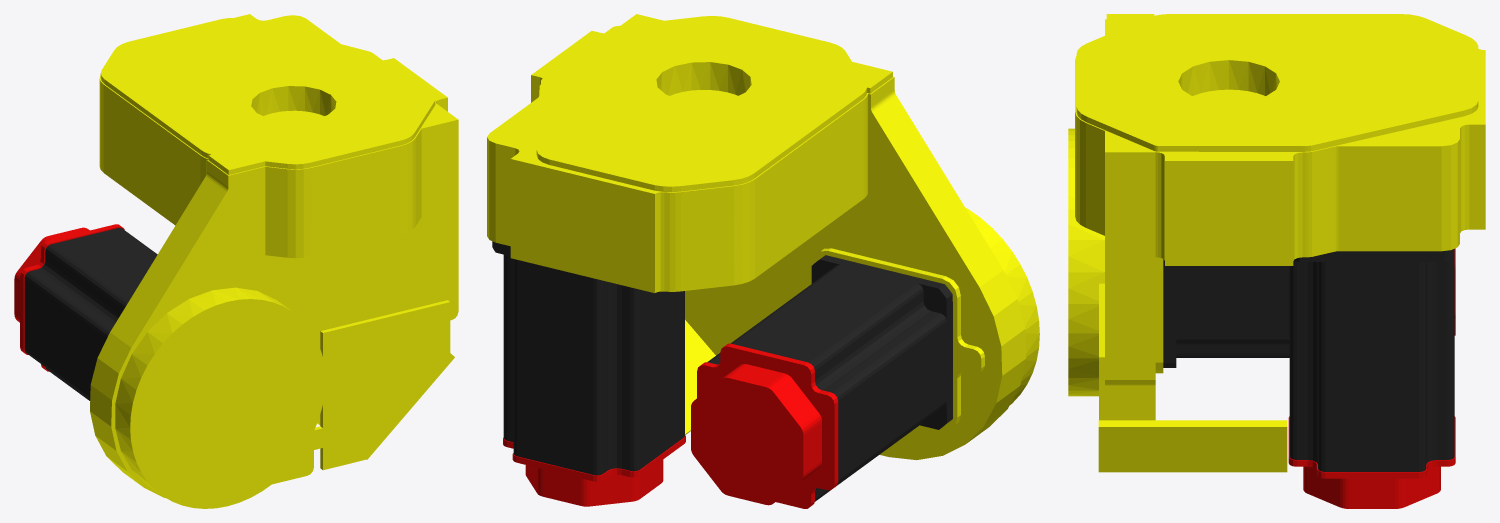
3 renders of one model, left to right at view 1: azimuth 30°, elevation 25°; view 2: azimuth 150°, elevation 25°; view 3: azimuth 270°, elevation 25°, orthographic. The views are drawn at different scales.
Visible parts, largest first — view 1: node; view 2: node; view 3: node.
Part boxes in pixels (bbox=[...]): node: bbox=[14, 14, 458, 508]; node: bbox=[487, 14, 1039, 508]; node: bbox=[1068, 14, 1485, 508].
Bounding box in the file's own units: 271 × 231 × 228.
